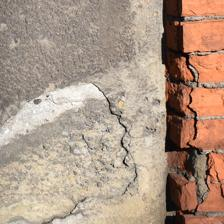Crack: (21, 0, 212, 195), (75, 105, 177, 224), (37, 15, 138, 85), (30, 77, 60, 107)
